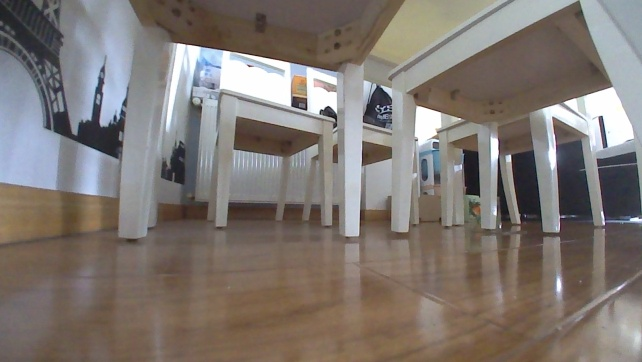dining_table1: (111, 0, 641, 249)
sofa1: (457, 122, 641, 224)
